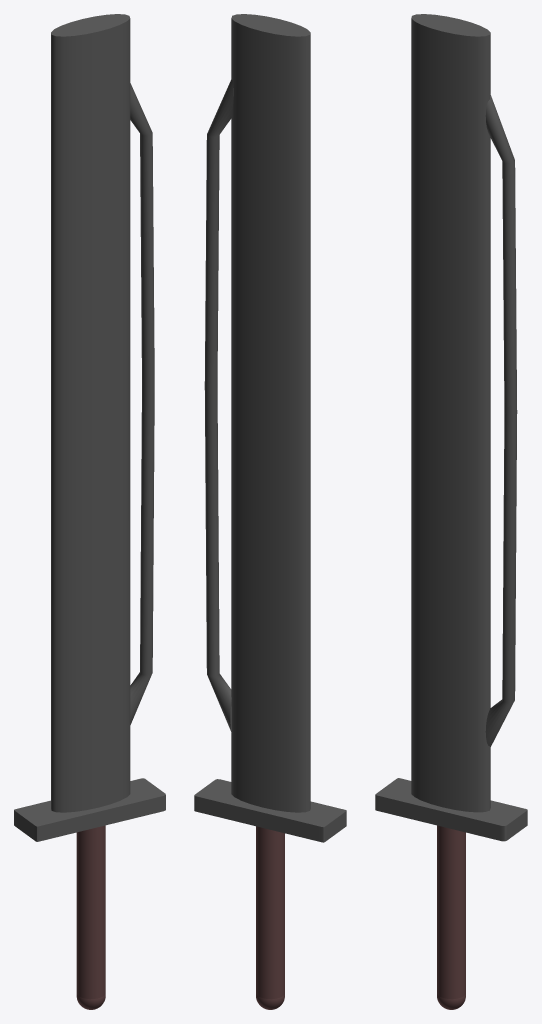
Rendered from IronSwordHolder.fbx.
The picture shows the model from 3 angles, left to right: view 1: azimuth 30°, elevation 25°; view 2: azimuth 150°, elevation 25°; view 3: azimuth 330°, elevation 25°; orthographic projection.
Parts seen in each view (by area): view 1: pCylinder2, pCylinder3, pasted__pCylinder1, pasted__pCube1; view 2: pCylinder2, pCylinder3, pasted__pCylinder1, pasted__pCube1; view 3: pCylinder2, pCylinder3, pasted__pCylinder1, pasted__pCube1.
Part boxes in pixels (x1=…): pCylinder2: x1=51, y1=14, x2=130, y2=812; pCylinder3: x1=130, y1=83, x2=154, y2=724; pasted__pCylinder1: x1=76, y1=825, x2=105, y2=999; pasted__pCube1: x1=14, y1=778, x2=165, y2=841; pCylinder2: x1=231, y1=14, x2=310, y2=812; pCylinder3: x1=204, y1=79, x2=233, y2=732; pasted__pCylinder1: x1=256, y1=826, x2=284, y2=999; pasted__pCube1: x1=194, y1=779, x2=346, y2=842; pCylinder2: x1=411, y1=14, x2=490, y2=812; pCylinder3: x1=485, y1=94, x2=517, y2=747; pasted__pCylinder1: x1=437, y1=825, x2=465, y2=999; pasted__pCube1: x1=375, y1=778, x2=527, y2=841.
Bounding box in the file's own units: 1.57 × 11.31 × 0.4886.
